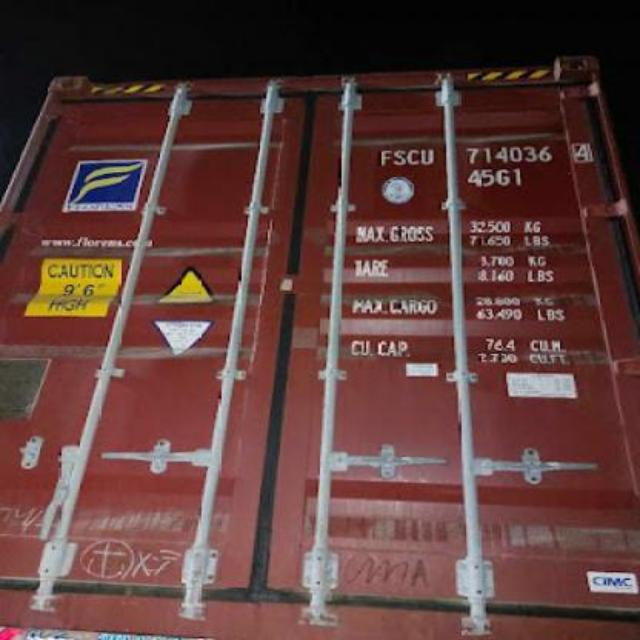0: (508, 142, 524, 164)
1: (481, 142, 494, 166)
3: (522, 140, 536, 168)
4: (570, 140, 600, 167), (494, 142, 508, 166)
6: (536, 136, 554, 170)
7: (462, 142, 478, 168)
C: (408, 138, 420, 172)
F: (374, 145, 392, 169)
S: (394, 146, 406, 170)
U: (418, 145, 434, 169)
